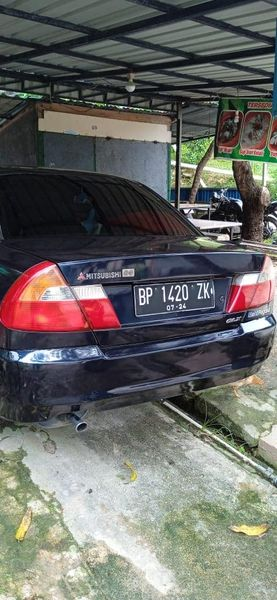plate: (129, 276, 228, 317)
